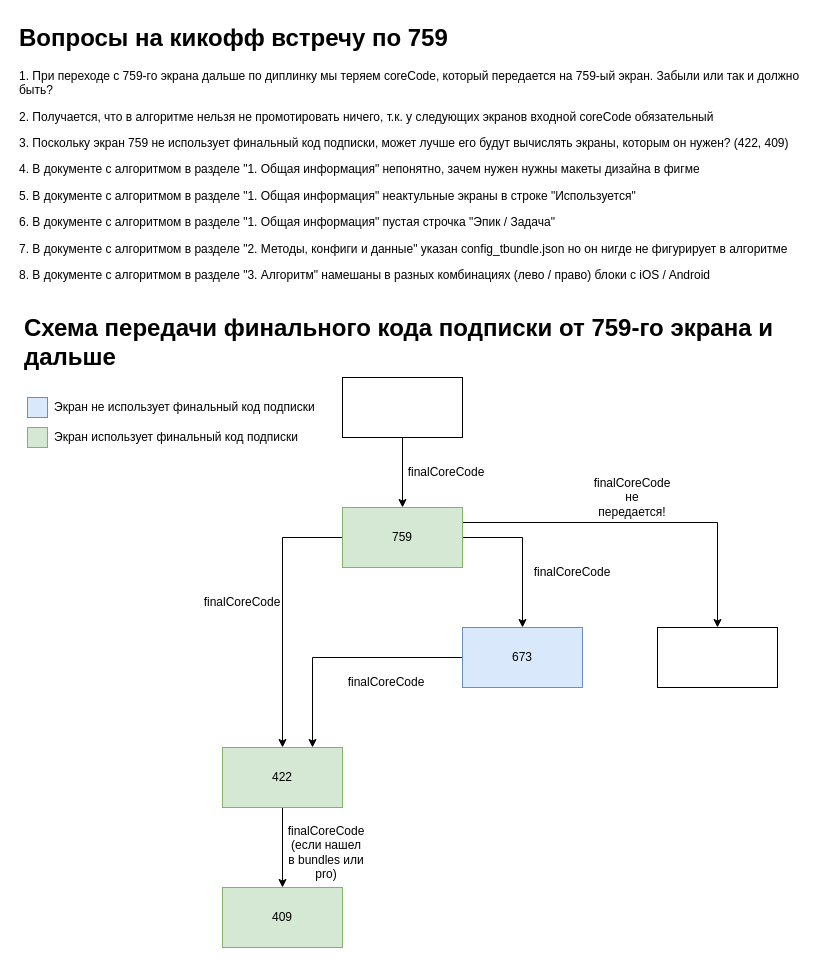
The diagram is 824 pixels wide and 965 high, and some of its shapes have lost their labels. Each missing label, with the box of its shape:
Deeplink: (656, 626, 778, 688)
Вызывающий код: (342, 376, 462, 438)
